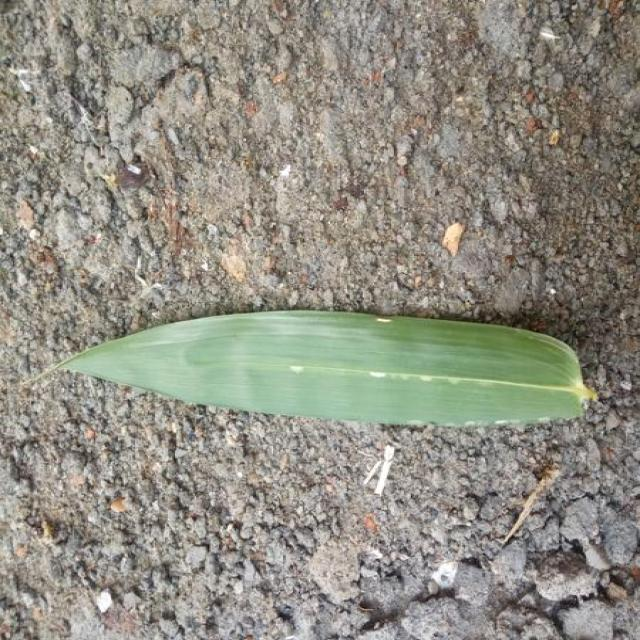Bamboo: (58, 311, 593, 426)
defectedBamboo: (287, 367, 593, 398)
